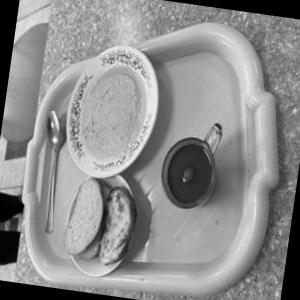bread: (50, 175, 110, 262)
cheese_sandwich: (86, 183, 146, 284)
coffee: (150, 121, 234, 220)
porridge: (61, 53, 162, 175)
